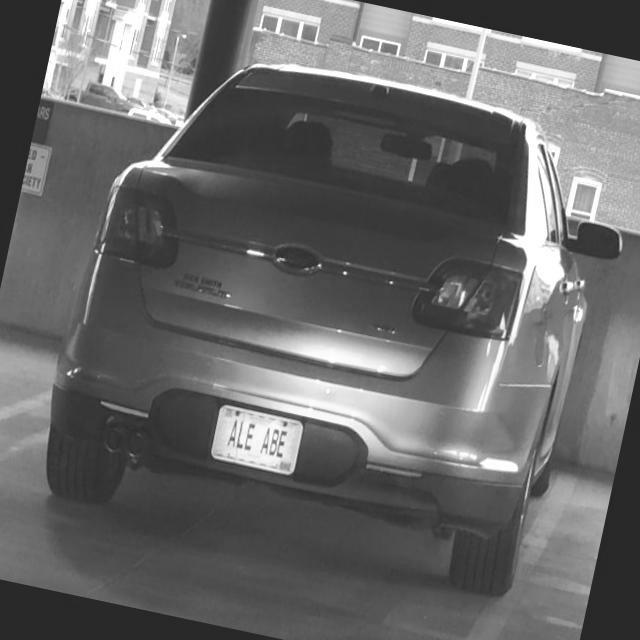LicensePlate: (209, 403, 305, 475)
